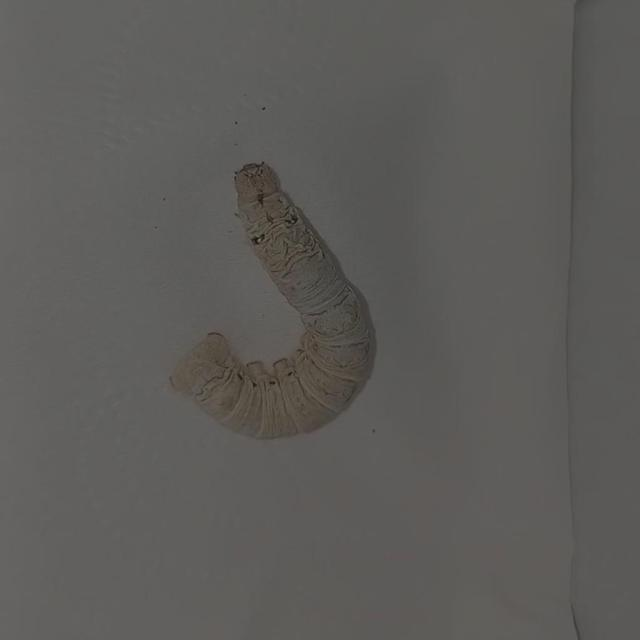Healthy: (149, 124, 424, 476)
